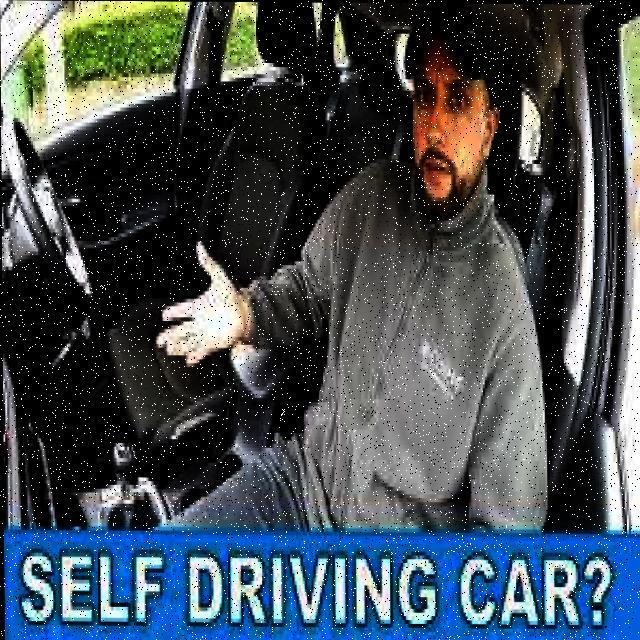noSeatbelt: (307, 124, 528, 532)
